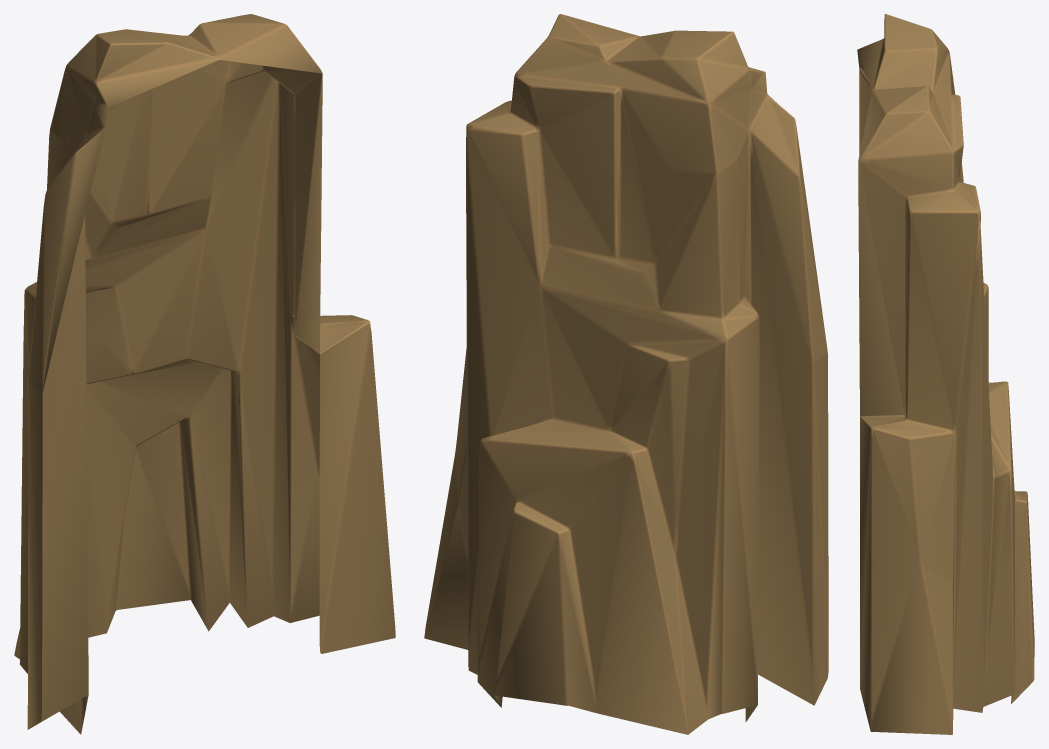
The model's file is Risco 2.fbx.
3 renders of one model, left to right at view 1: azimuth 30°, elevation 25°; view 2: azimuth 150°, elevation 25°; view 3: azimuth 270°, elevation 25°, orthographic. The views are drawn at different scales.
Parts seen in each view (by area): view 1: Risco 2; view 2: Risco 2; view 3: Risco 2.
Part boxes in pixels (x1=…): Risco 2: x1=14, y1=14, x2=395, y2=734; Risco 2: x1=424, y1=14, x2=828, y2=734; Risco 2: x1=857, y1=14, x2=1034, y2=734.
Bounding box in the file's own units: 667 × 1222 × 313.
